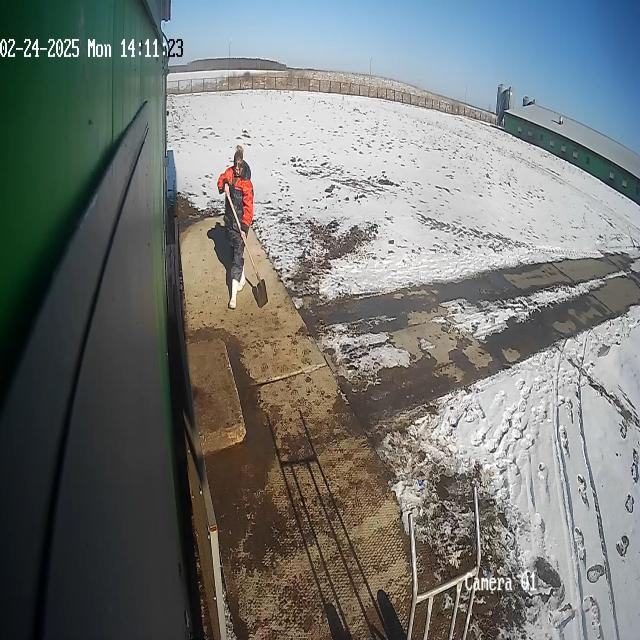Red uniform: (216, 145, 255, 311)
